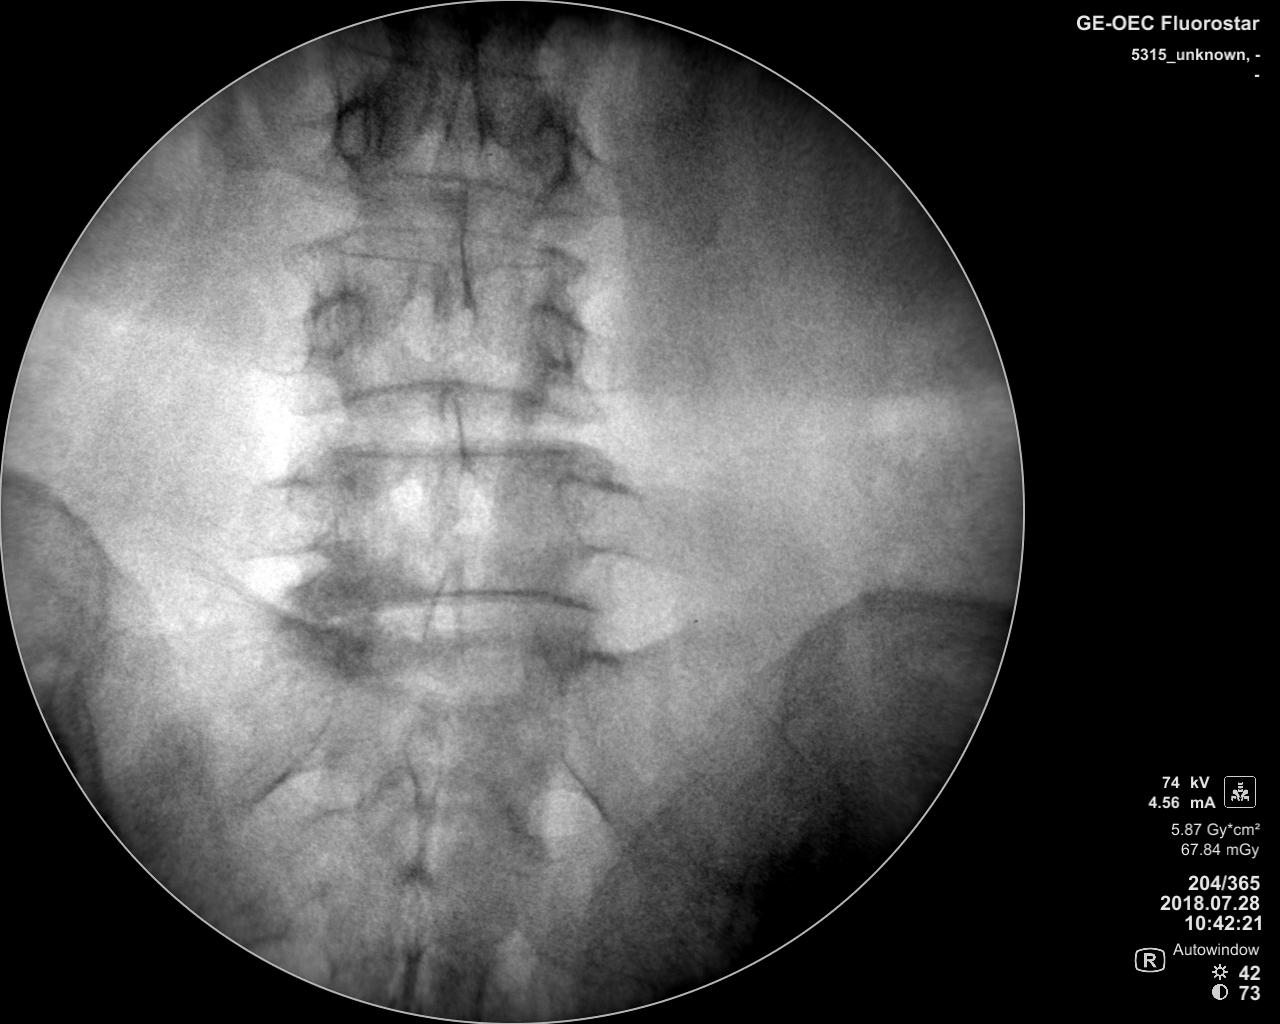eyes: (545, 460, 624, 553), (294, 450, 365, 540), (518, 298, 592, 375), (304, 286, 371, 363), (520, 110, 579, 188), (327, 95, 386, 169)
nose: (409, 551, 478, 689), (426, 186, 483, 342), (420, 374, 480, 515), (433, 42, 491, 178)
